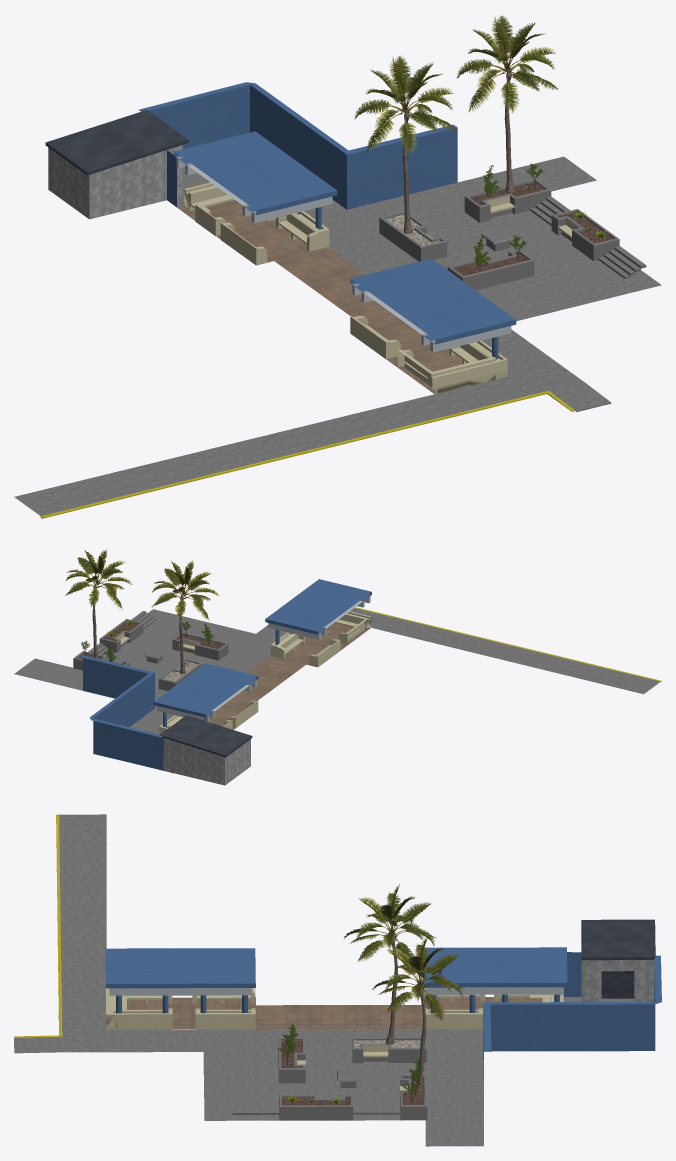
File: USIT-Bancas_.glb
The picture shows the model from 3 angles, top to bottom: view 1: azimuth 30°, elevation 25°; view 2: azimuth 150°, elevation 25°; view 3: azimuth 270°, elevation 25°; orthographic projection. The views are drawn at different scales.
Visible parts, largest first — view 1: Jardinera_04, Piso_Exterior, Cuartito, Palm, Techo_BancaA, Rampa_Estacionamiento, Small_Tree; view 2: Jardinera_04, Piso_Exterior, Cuartito, Palm, Techo_BancaA, Rampa_Estacionamiento, Small_Tree; view 3: Jardinera_04, Piso_Exterior, Palm, Cuartito, Techo_BancaA, Rampa_Estacionamiento, Small_Tree.
Boxes of the visible parts, bbox=[...] form: Jardinera_04: bbox=[14, 156, 661, 516]; Piso_Exterior: bbox=[138, 82, 516, 393]; Cuartito: bbox=[45, 110, 188, 219]; Palm: bbox=[355, 16, 558, 233]; Techo_BancaA: bbox=[176, 156, 511, 352]; Rampa_Estacionamiento: bbox=[40, 390, 575, 518]; Small_Tree: bbox=[474, 163, 607, 267]; Jardinera_04: bbox=[14, 608, 660, 773]; Piso_Exterior: bbox=[80, 579, 371, 770]; Cuartito: bbox=[160, 715, 252, 785]; Palm: bbox=[65, 548, 218, 673]; Techo_BancaA: bbox=[156, 595, 370, 721]; Rampa_Estacionamiento: bbox=[355, 607, 661, 681]; Small_Tree: bbox=[81, 620, 214, 662]; Jardinera_04: bbox=[14, 814, 634, 1146]; Piso_Exterior: bbox=[105, 947, 661, 1080]; Palm: bbox=[344, 884, 464, 1095]; Cuartito: bbox=[581, 919, 655, 1001]; Techo_BancaA: bbox=[109, 987, 563, 995]; Rampa_Estacionamiento: bbox=[14, 814, 62, 1037]; Small_Tree: bbox=[278, 1024, 424, 1104].
Size of the model in its own units: 0.4739 by 0.1133 by 0.3908.
13 materials, 13 textured.
